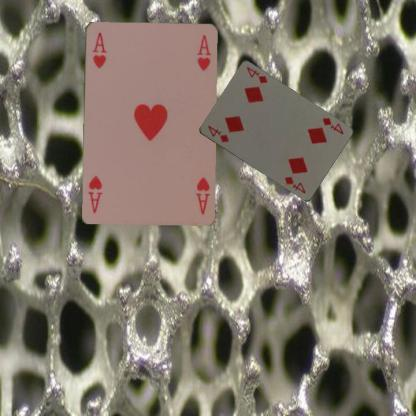4d: (205, 122, 231, 144), (319, 114, 344, 136)
Ah: (193, 174, 211, 215), (90, 30, 107, 70)
